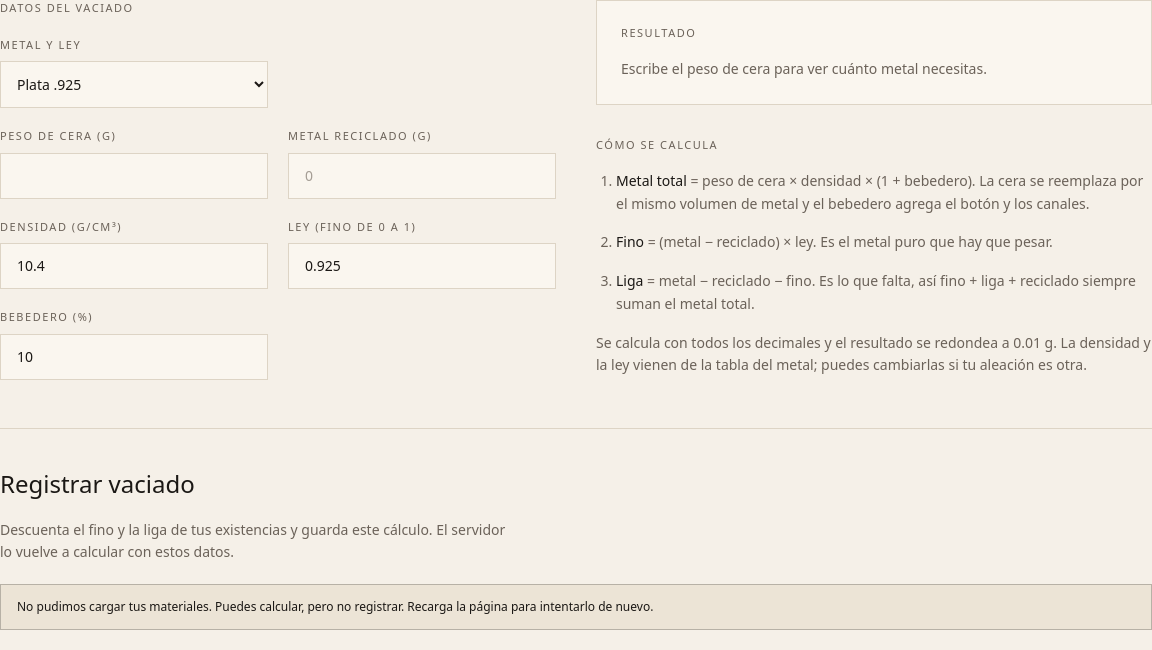
it: CastingCalculator: registering a casting › says so when the materials could not be loaded, yet still calculates
Expected: the message shows "No pudimos cargar tus materiales", [17,598,653,615]
Step 1. Type "5" into the number field labelled "Peso de cera (g)" → point(134, 176), box [0,152,268,198]
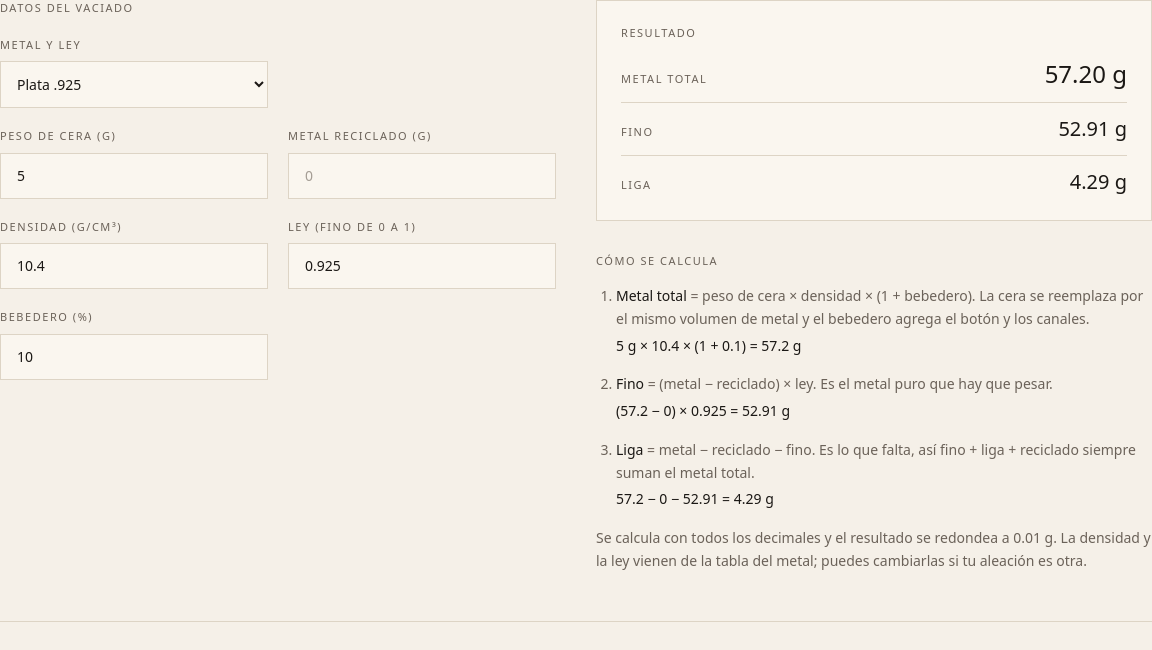
Expected: the text "57.20 g" is shown, [1045,58,1127,90]
